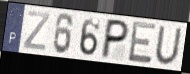6: (52, 11, 74, 55), (78, 17, 101, 57)
E: (127, 20, 158, 65)
P: (99, 18, 131, 60)
U: (154, 25, 183, 67)
Z: (22, 10, 51, 52)
